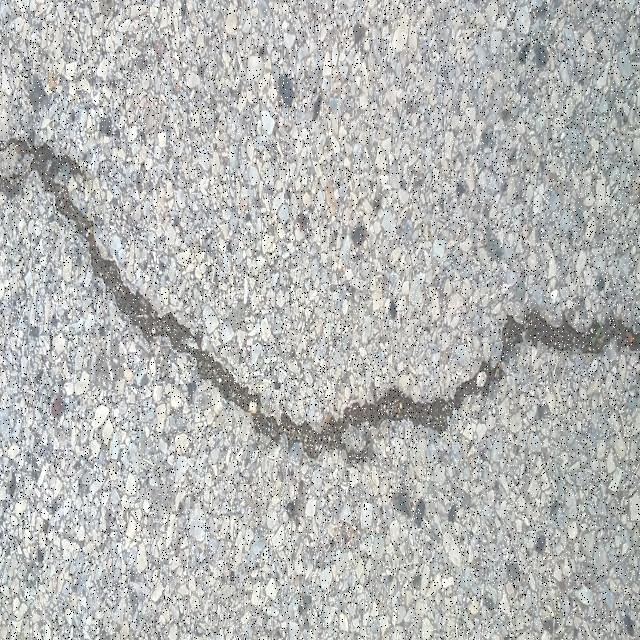Crack: (0, 140, 640, 470)
